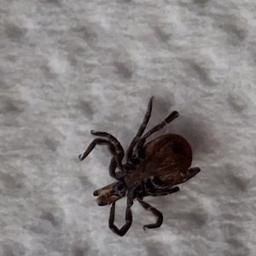Ixodes scapularis: (78, 94, 203, 236)
